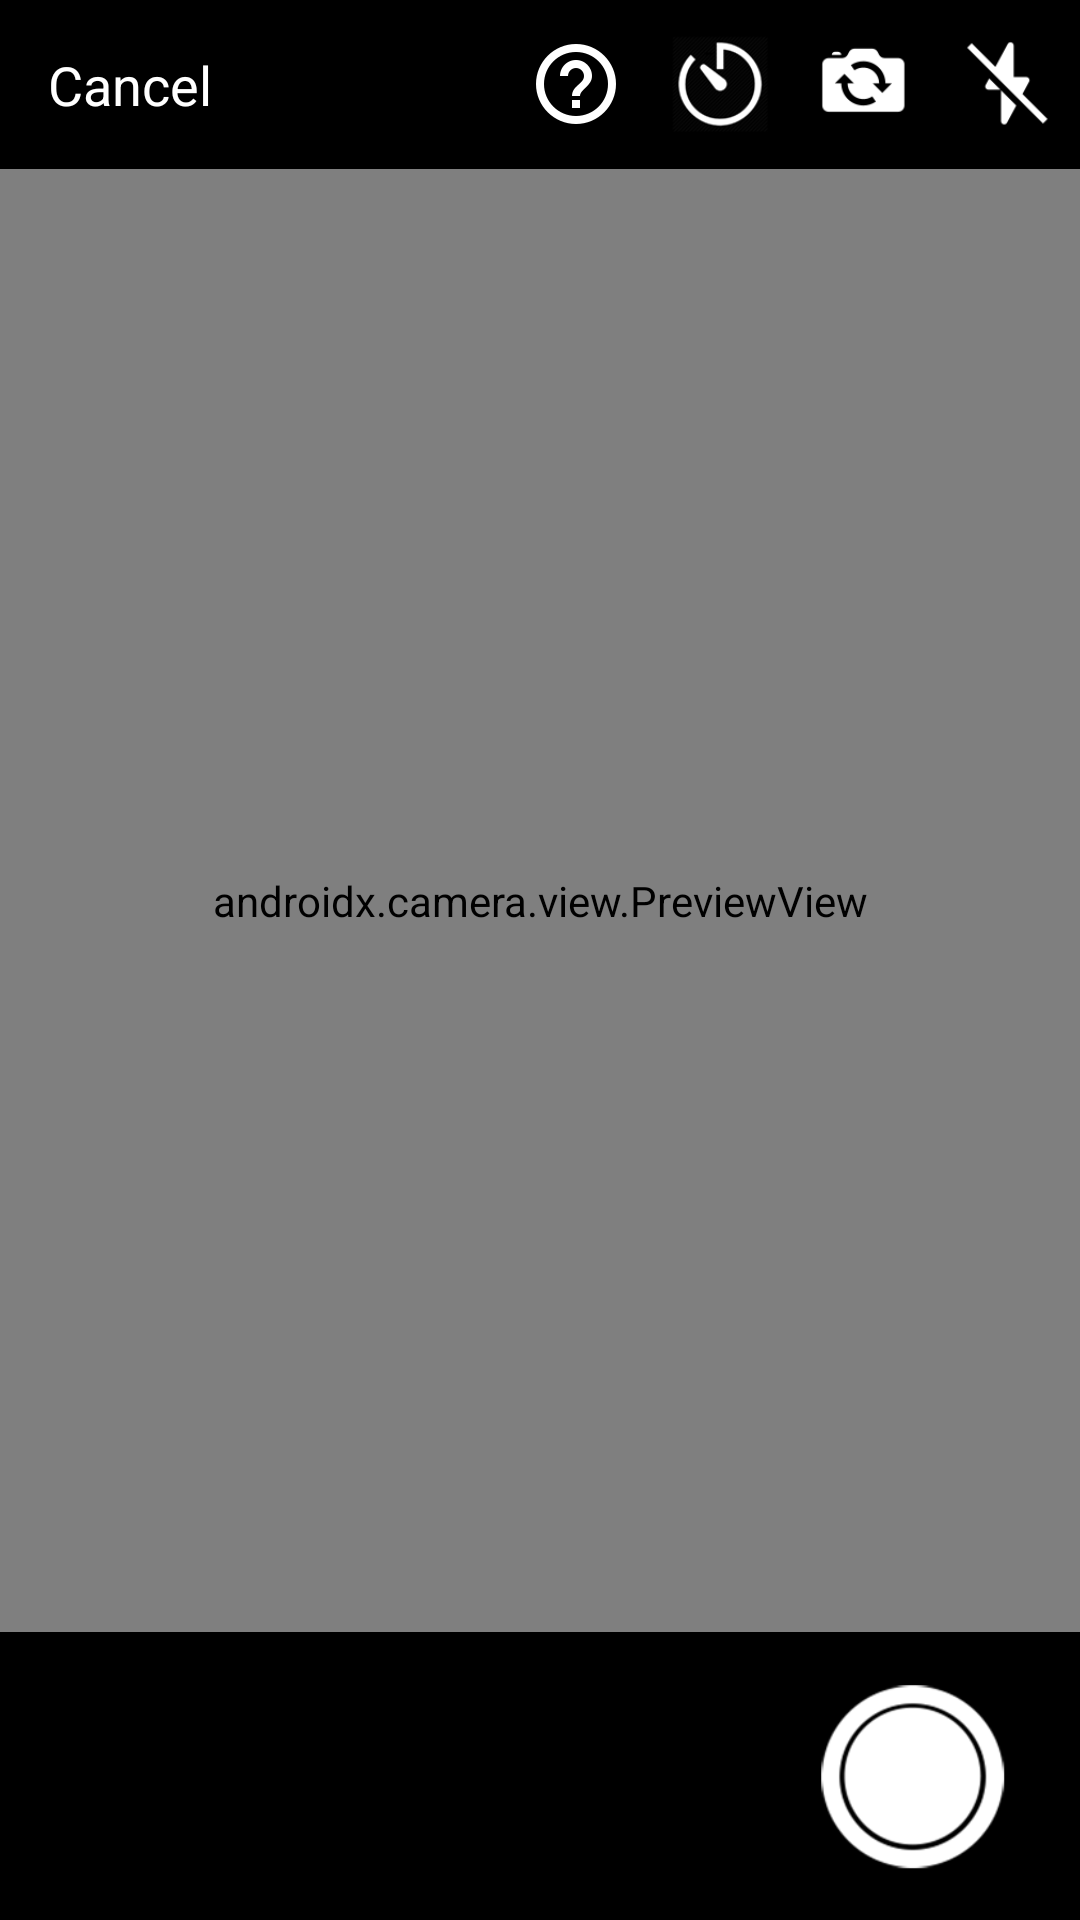

Locate icon controls on the screen. Image size 1080 x 1920, boxes as [x1,y1,x2,y2].
flash off: [967,42,1048,125]
question mark in circle: [536,44,616,124]
switch camera: [822,48,905,112]
